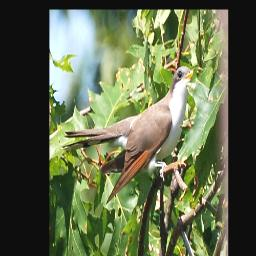Cuckoo: (61, 65, 194, 204)
